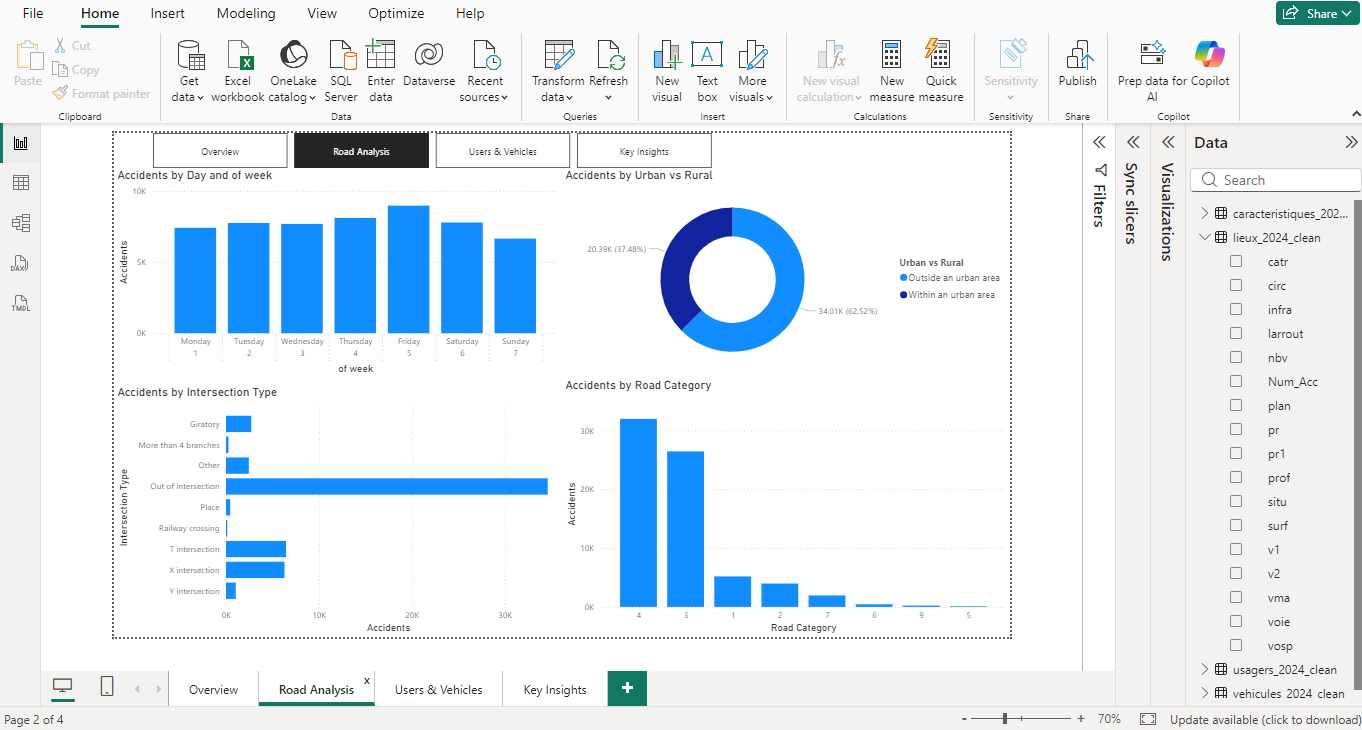

This screenshot's page, from the dashboard's own definition file:
{"tool":"powerbi","page":{"name":"Page 2","canvas":[1280,720],"ordinal":1},"visuals":[{"type":"clusteredColumnChart","fields":{"Category":["caracteristiques_2024_clean.Day_Sort","caracteristiques_2024_clean.Day_Name"],"Y":["CountNonNull(caracteristiques_2024_clean.Num_Acc)"]},"box":[0,0,750,381.4],"z":0},{"type":"donutChart","fields":{"Category":["caracteristiques_2024_clean.Location_Type"],"Y":["CountNonNull(caracteristiques_2024_clean.Num_Acc)"]},"box":[451.4,381.4,597.1,338.6],"z":1000},{"type":"barChart","fields":{"Category":["caracteristiques_2024_clean.Intersection_Type"],"Y":["CountNonNull(caracteristiques_2024_clean.Num_Acc)"]},"box":[738.6,0,541.4,381.4],"z":2000}]}

Visuals, with their boxes on the page's 1280x720 design canvas (x1, y1, x2, y2). These are canvas units, not pixel positions in the 1362x730 screenshot, which may show the page scaled, cropped or inside an application window:
clusteredColumnChart - caracteristiques_2024_clean.Day_Sort x caracteristiques_2024_clean.Day_Name: bbox=(0, 0, 750, 381)
donutChart - caracteristiques_2024_clean.Location_Type x CountNonNull(caracteristiques_2024_clean.Num_Acc): bbox=(451, 381, 1048, 720)
barChart - caracteristiques_2024_clean.Intersection_Type x CountNonNull(caracteristiques_2024_clean.Num_Acc): bbox=(739, 0, 1280, 381)
